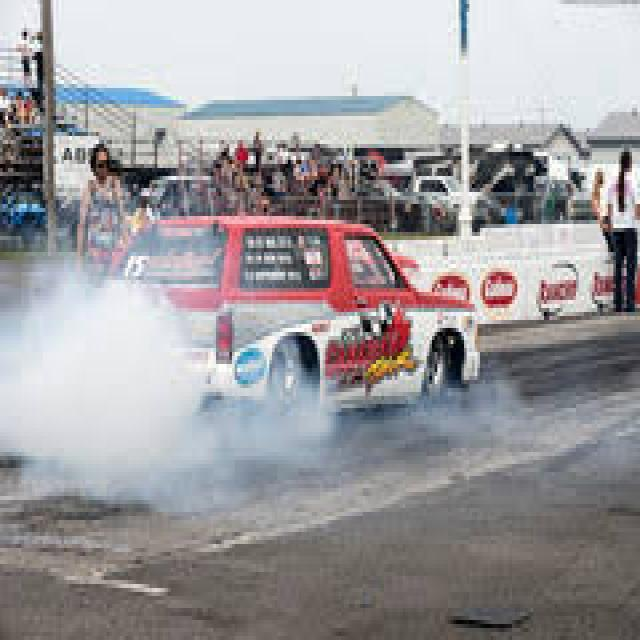Smoke: (0, 240, 360, 516)
